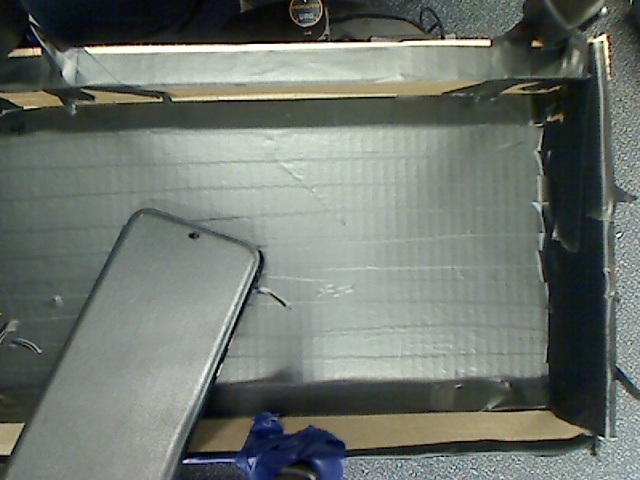phone: (1, 215, 292, 479)
